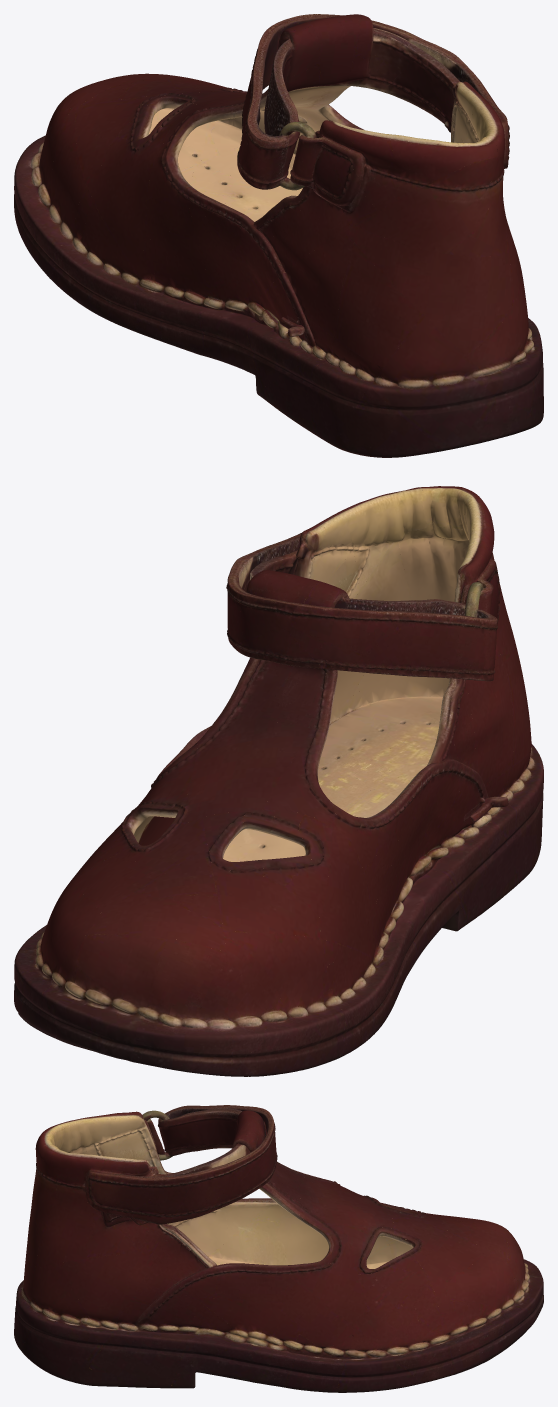
File: eureka-due-occhi.glb
The picture shows the model from 3 angles, top to bottom: view 1: azimuth 30°, elevation 25°; view 2: azimuth 150°, elevation 25°; view 3: azimuth 270°, elevation 25°; orthographic projection. The views are drawn at different scales.
Parts seen in each view (by area): view 1: USER_SANDAL; view 2: USER_SANDAL; view 3: USER_SANDAL.
Boxes of the visible parts, left/top/right/bottom form: USER_SANDAL: left=14, top=14, right=543, bottom=457; USER_SANDAL: left=14, top=486, right=543, bottom=1076; USER_SANDAL: left=14, top=1105, right=543, bottom=1392.
Bounding box in the file's own units: 1.37 × 1.48 × 3.05.
3 materials, 3 textured.
